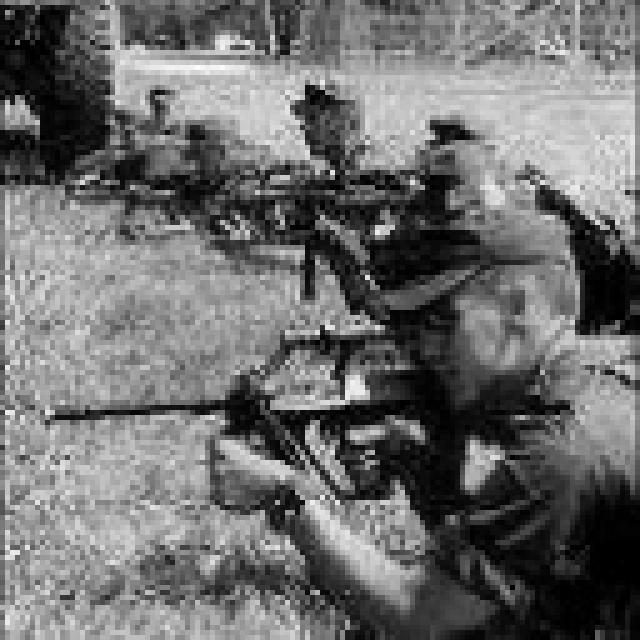Rifle: (38, 344, 464, 474), (193, 143, 485, 311), (63, 177, 238, 239)
